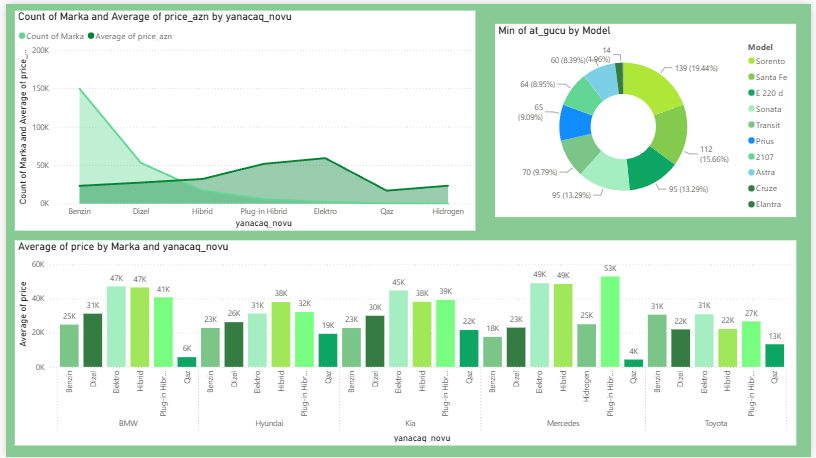

This screenshot's page, from the dashboard's own definition file:
{"tool":"powerbi","page":{"name":"Page 3","canvas":[1280,720],"ordinal":2},"visuals":[{"type":"clusteredColumnChart","fields":{"Category":["turboaz_cars_cleaned_iqr.Marka","turboaz_cars_cleaned_iqr.yanacaq_novu"],"Y":["Avg(turboaz_cars_cleaned_iqr.price)"]},"box":[14,376,1242,326],"z":0},{"type":"areaChart","fields":{"Category":["turboaz_cars_cleaned_iqr.yanacaq_novu"],"Y":["CountNonNull(turboaz_cars_cleaned_iqr.Marka)","Avg(turboaz_cars_cleaned_iqr.price_azn)"]},"box":[14,10,732,350],"z":1000},{"type":"donutChart","fields":{"Category":["turboaz_cars_cleaned_iqr.Model"],"Y":["Min(turboaz_cars_cleaned_iqr.at_gucu)"]},"box":[776.7,31.7,478.3,306.7],"z":2000}]}

Visuals, with their boxes in screenshot pixels (x1, y1, x2, y2), scaled from the page's 1280x720 canvas onto the 816x458 screenshot:
clusteredColumnChart - turboaz_cars_cleaned_iqr.Marka x turboaz_cars_cleaned_iqr.yanacaq_novu: crop(9, 239, 801, 447)
areaChart - turboaz_cars_cleaned_iqr.yanacaq_novu x CountNonNull(turboaz_cars_cleaned_iqr.Marka): crop(9, 6, 476, 229)
donutChart - turboaz_cars_cleaned_iqr.Model x Min(turboaz_cars_cleaned_iqr.at_gucu): crop(495, 20, 800, 215)
